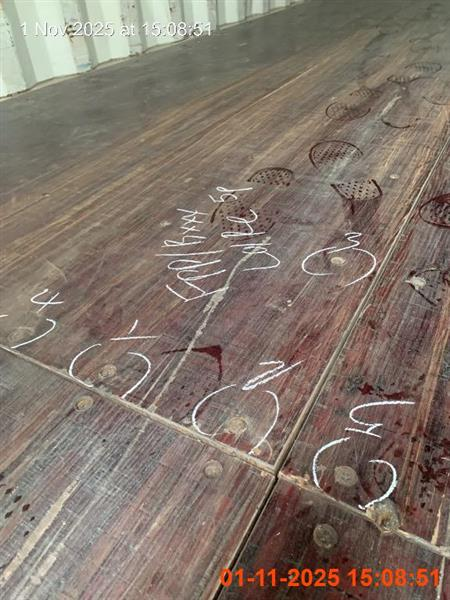crack: (311, 400, 416, 510), (164, 247, 280, 303)
